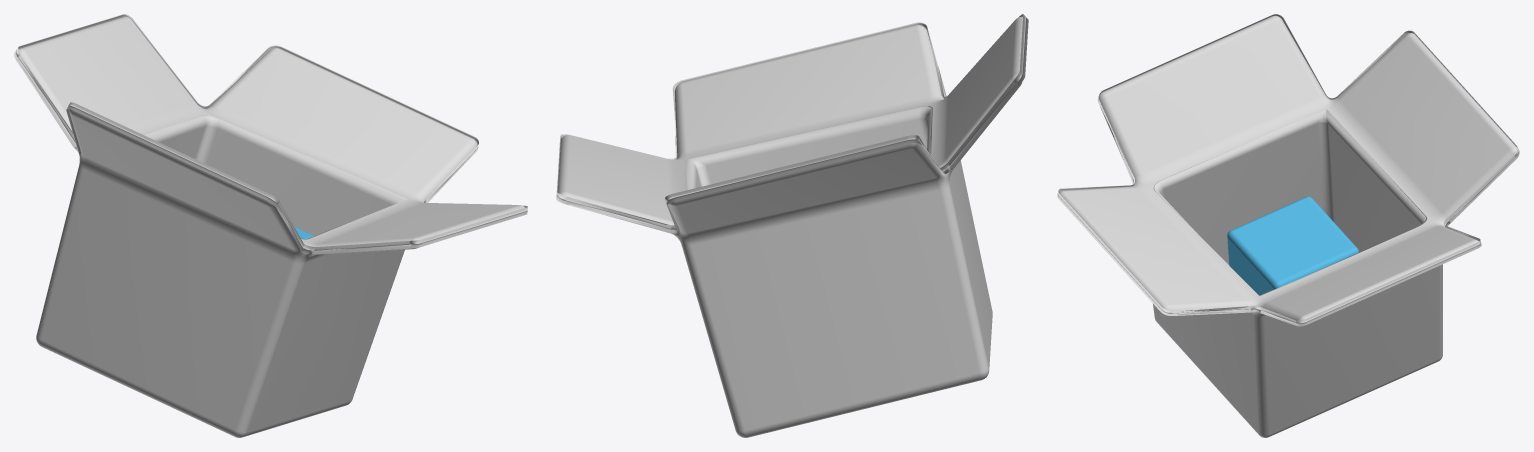
Rendered from digitaal-ondernemen-en-logistiek.glb.
3 views of the same model, side by side, from view 1: azimuth 30°, elevation 25°; view 2: azimuth 150°, elevation 25°; view 3: azimuth 270°, elevation 25° (orthographic). The views are drawn at different scales.
Visible parts, largest first — view 1: box/glass; view 2: box/glass; view 3: box/glass, box-inside/color.
Boxes of the visible parts, bbox=[...] form: box/glass: bbox=[14, 14, 527, 437]; box/glass: bbox=[556, 14, 1028, 437]; box/glass: bbox=[1057, 14, 1519, 437]; box-inside/color: bbox=[1227, 196, 1358, 295].
Size of the model in its own units: 2.36 by 1.92 by 2.58.
